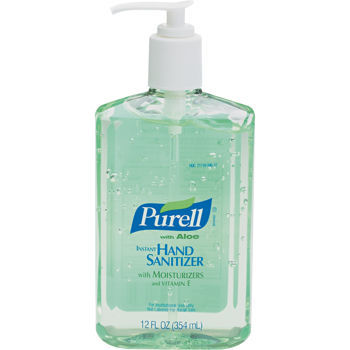Sanitizer: (91, 1, 258, 350)
